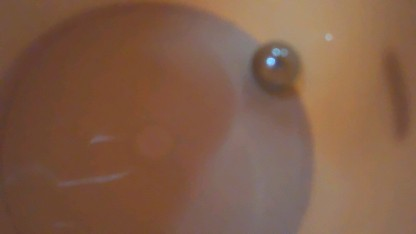ironball: (241, 39, 296, 90)
